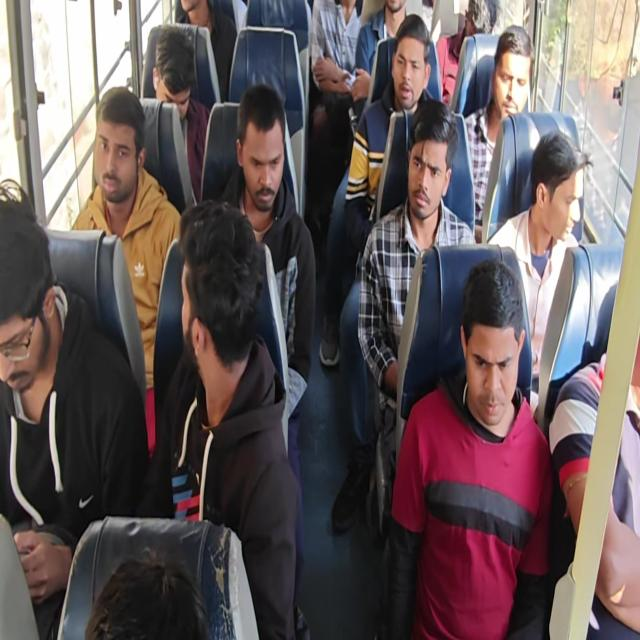person: (1, 2, 637, 638), (140, 199, 309, 638), (0, 180, 150, 638), (386, 257, 553, 638), (357, 99, 477, 532), (320, 13, 438, 366), (70, 85, 182, 455), (217, 82, 316, 487), (548, 283, 640, 638), (487, 128, 593, 406), (305, 0, 370, 231), (463, 24, 534, 234), (84, 548, 211, 639), (151, 25, 210, 204), (175, 0, 238, 103), (436, 0, 497, 106), (310, 0, 363, 98), (354, 0, 406, 76)
